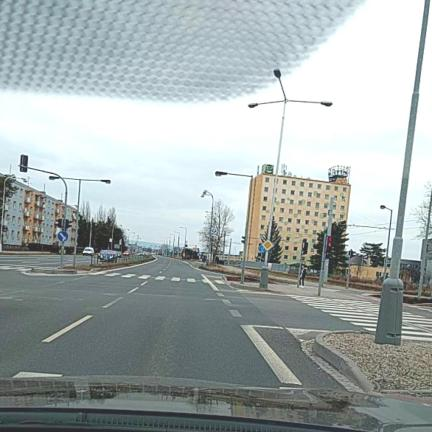Road: (0, 257, 358, 388)
